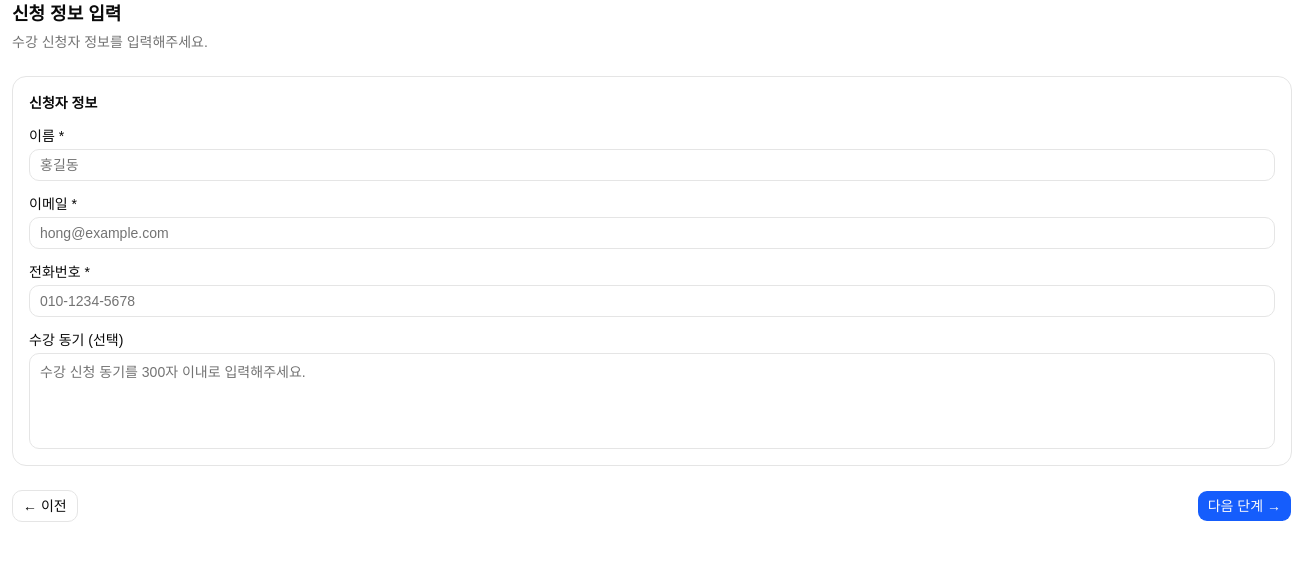
Test: Step2PersonalInfo › 이메일 형식 오류 후 blur 시 에러 메시지를 표시한다
Step 1. Type "invalid-email" into the field with placeholder "hong@example.com" → (652, 233), box [29,217,1275,249]
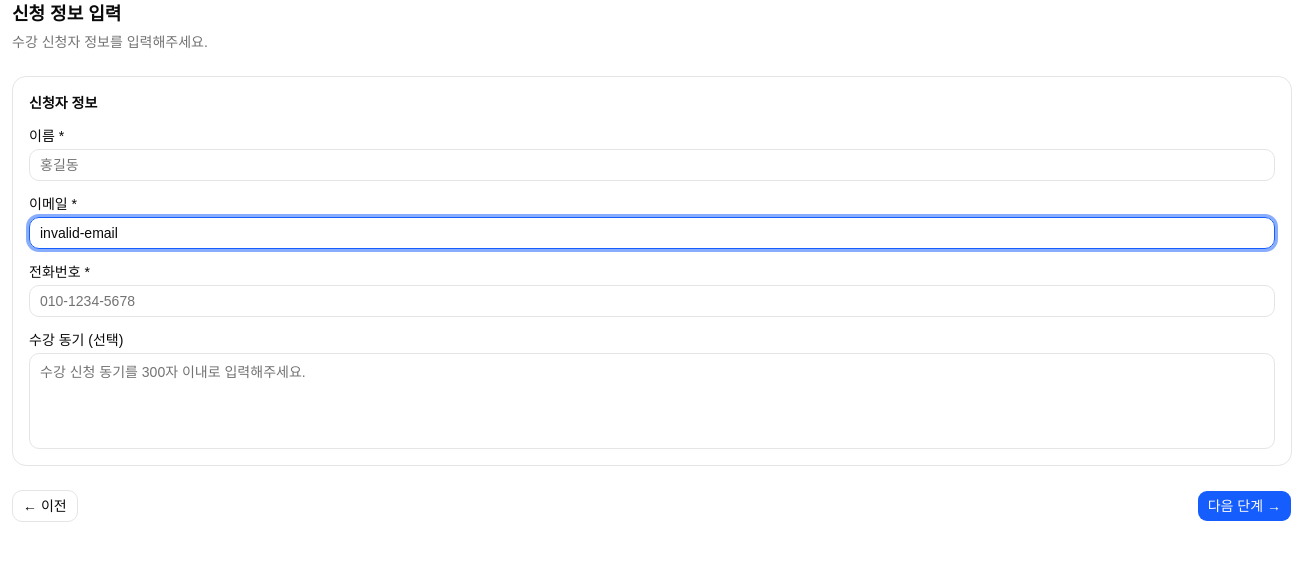
Step 2. Press Tab
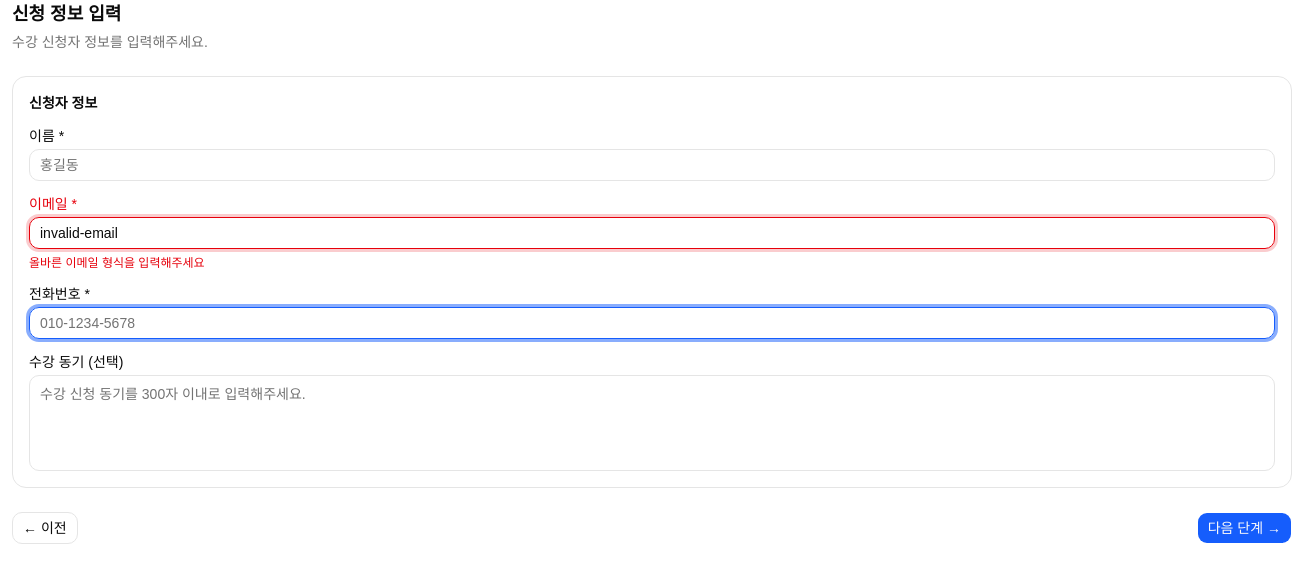
expect the text "올바른 이메일 형식을 입력해주세요" is shown: met, box [29,256,205,270]
